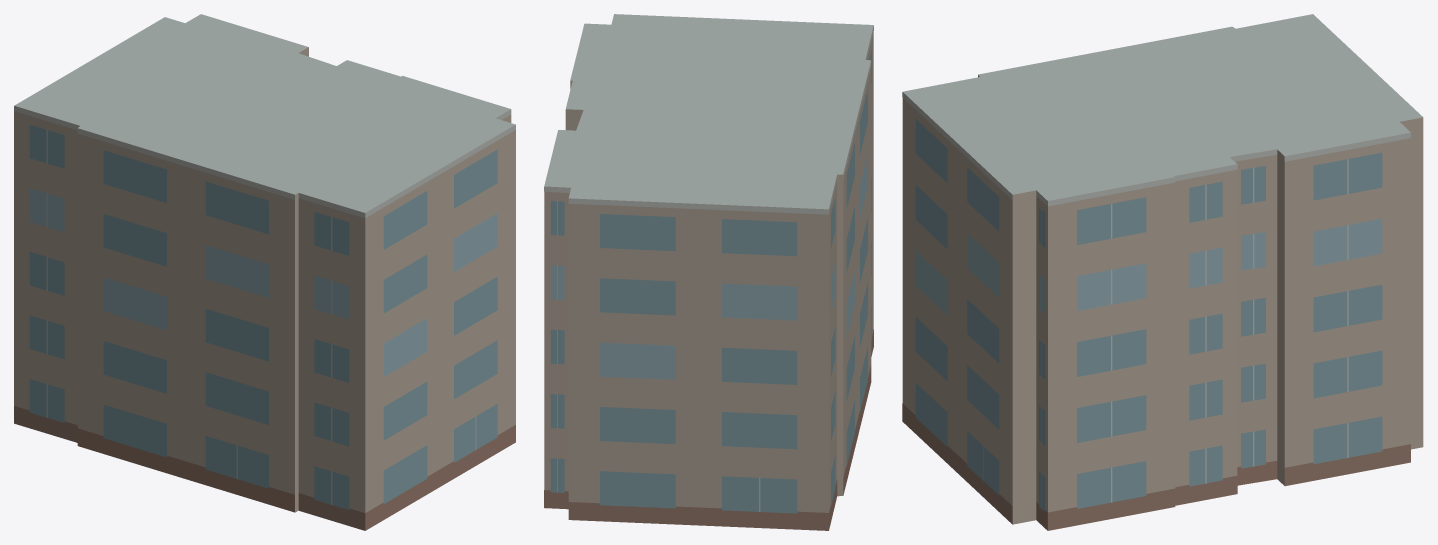
File: survey-upis-32598907.glb
3 renders of one model, left to right at view 1: azimuth 30°, elevation 25°; view 2: azimuth 150°, elevation 25°; view 3: azimuth 270°, elevation 25°, orthographic. The views are drawn at different scales.
Visible parts, largest first — view 1: survey-upis-32598907.tmp; view 2: survey-upis-32598907.tmp; view 3: survey-upis-32598907.tmp.
Boxes of the visible parts, <box> form: survey-upis-32598907.tmp: <box>14,14,515,530</box>; survey-upis-32598907.tmp: <box>544,14,873,530</box>; survey-upis-32598907.tmp: <box>902,14,1423,530</box>.
Bounding box in the file's own units: 17.95 × 14.75 × 21.13.
